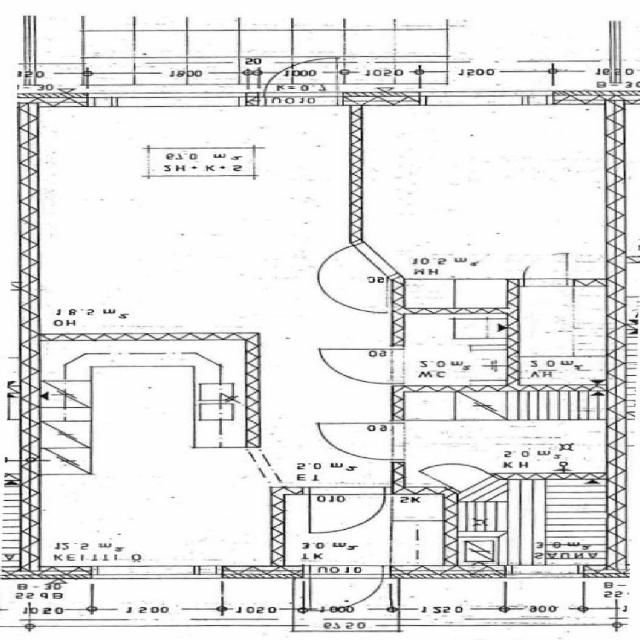door: (294, 242, 398, 296), (265, 54, 337, 106), (309, 566, 381, 617), (309, 487, 384, 534), (322, 423, 403, 460), (326, 349, 404, 384), (424, 456, 492, 492), (522, 256, 566, 286)
